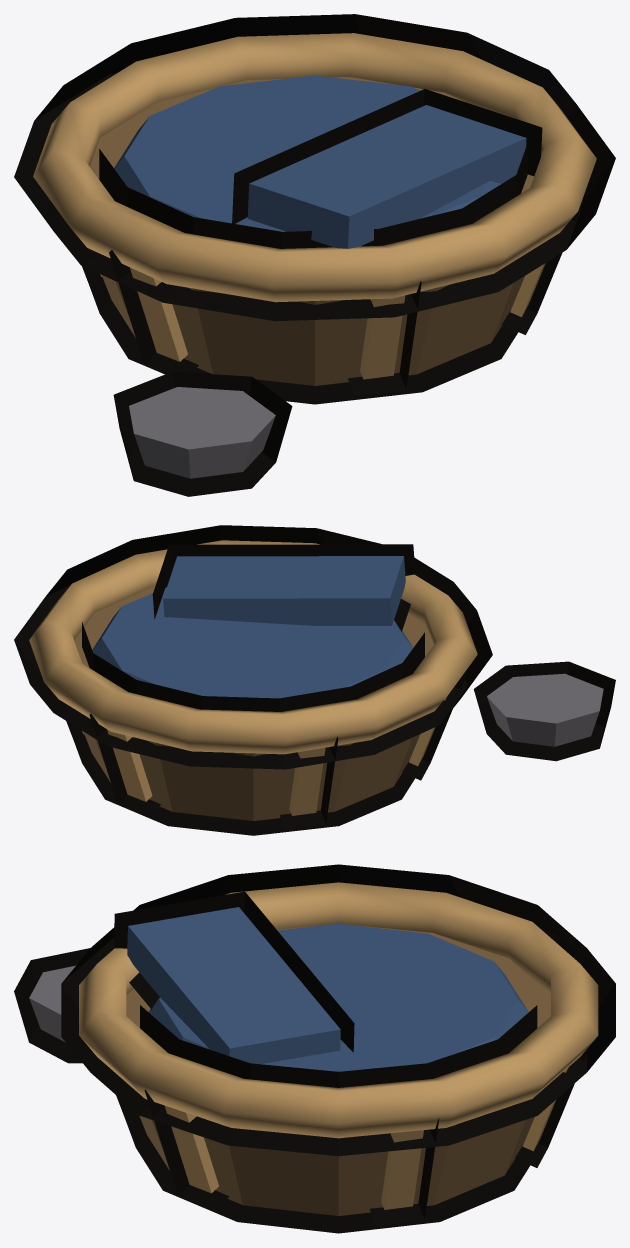
The model's file is basket.glb.
3 renders of one model, top to bottom at view 1: azimuth 30°, elevation 25°; view 2: azimuth 150°, elevation 25°; view 3: azimuth 270°, elevation 25°, orthographic. The views are drawn at different scales.
Visible parts, largest first — view 1: Prop_hearth_basket; view 2: Prop_hearth_basket; view 3: Prop_hearth_basket.
Boxes of the visible parts, x1,y1,x2,y2 form: Prop_hearth_basket: (14, 14, 615, 496); Prop_hearth_basket: (14, 525, 615, 835); Prop_hearth_basket: (14, 864, 615, 1233).
Bounding box in the file's own units: 1.06 × 0.3616 × 1.01.
